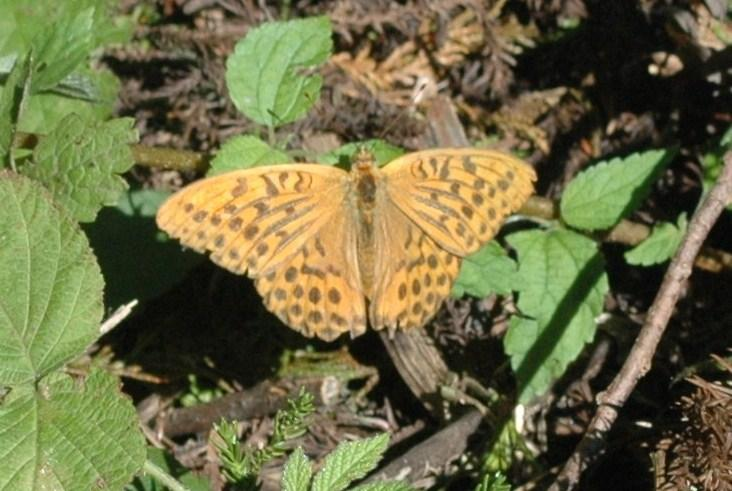Argyreus hyperbius: (151, 83, 543, 344)
butterfly: (149, 81, 541, 342)
